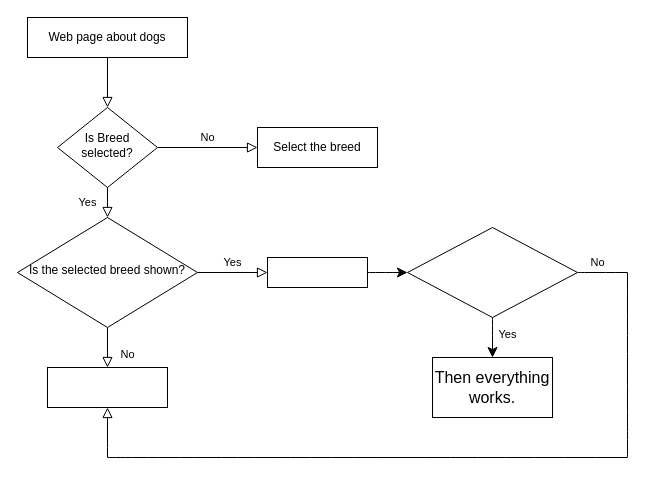
The diagram is 646 pixels wide and 485 high, and some of its shapes have lost their labels. Here are the shapes that lost their labels. From the top down, the box of each, then its label:
(266, 256, 368, 288): Enjoy the view
(406, 226, 578, 318): Is the picture changing?
(46, 366, 168, 408): Repair Code
